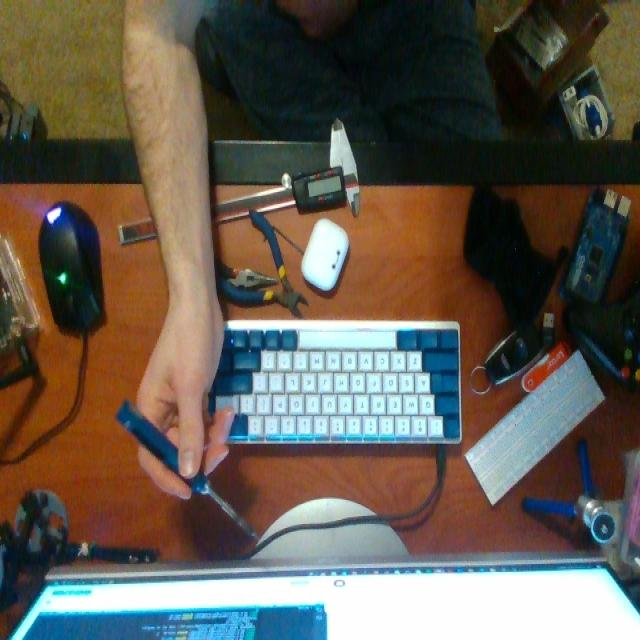keyboard-with-hands: (190, 325, 461, 441)
